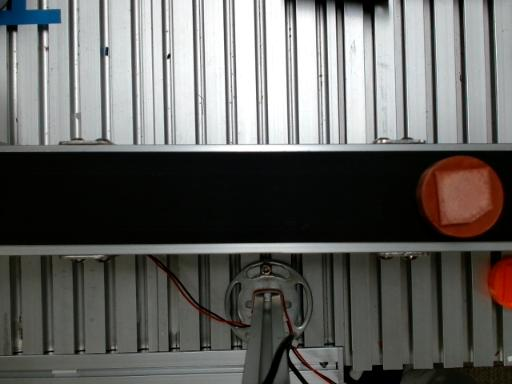Brown_Waper: (417, 156, 503, 237)
Not_Square: (434, 168, 494, 224)
